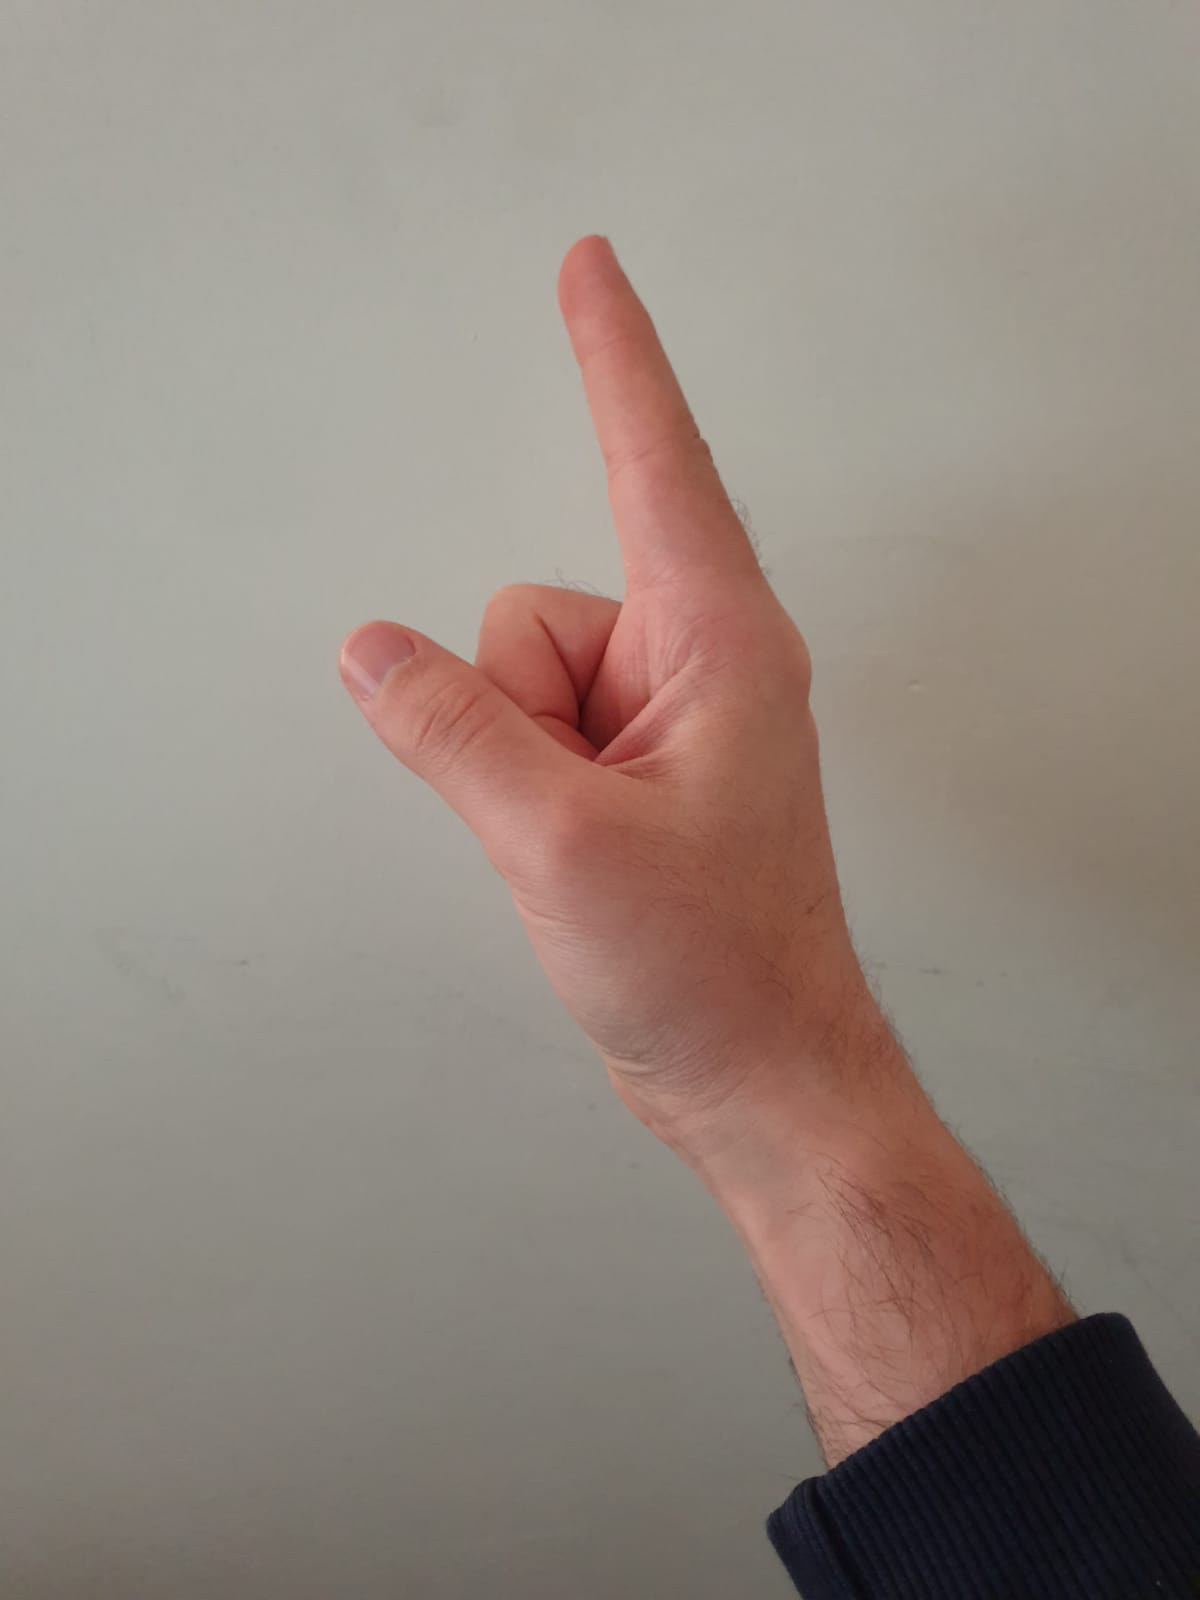bad: (329, 228, 896, 1187)
